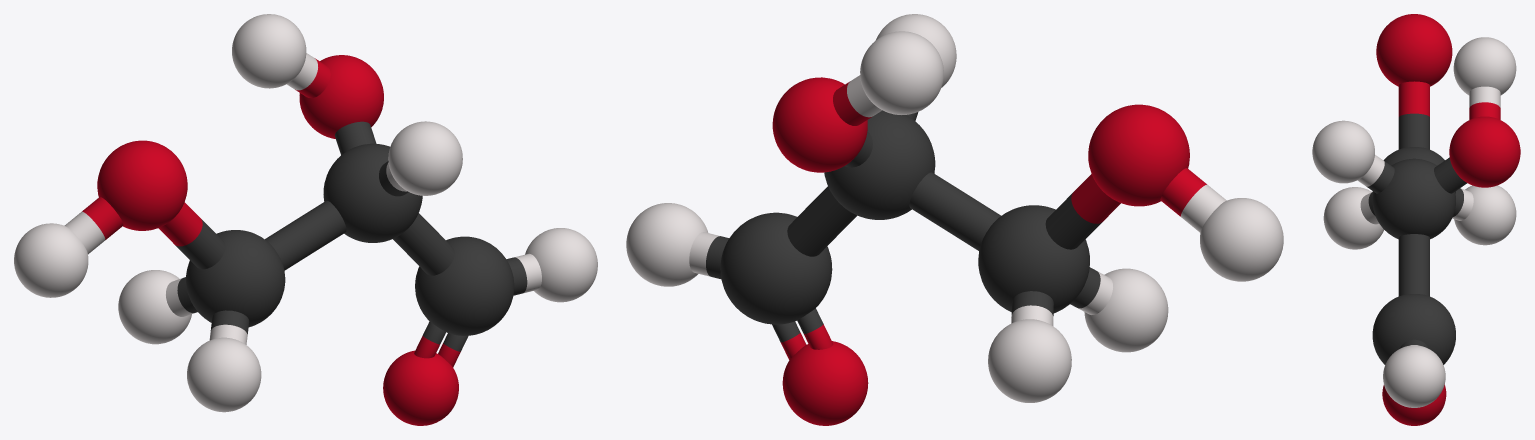
File: lgysss.gltf
3 renders of one model, left to right at view 1: azimuth 30°, elevation 25°; view 2: azimuth 150°, elevation 25°; view 3: azimuth 270°, elevation 25°, orthographic. The views are drawn at different scales.
Parts seen in each view (by area): view 1: Box002; view 2: Box002; view 3: Box002.
Part boxes in pixels (box(x1,y1,x2,y2)): Box002: box(14, 14, 597, 425); Box002: box(626, 14, 1283, 425); Box002: box(1312, 14, 1520, 425).
Bounding box in the file's own units: 53.34 × 35.61 × 19.89.
3 materials, 3 textured.
